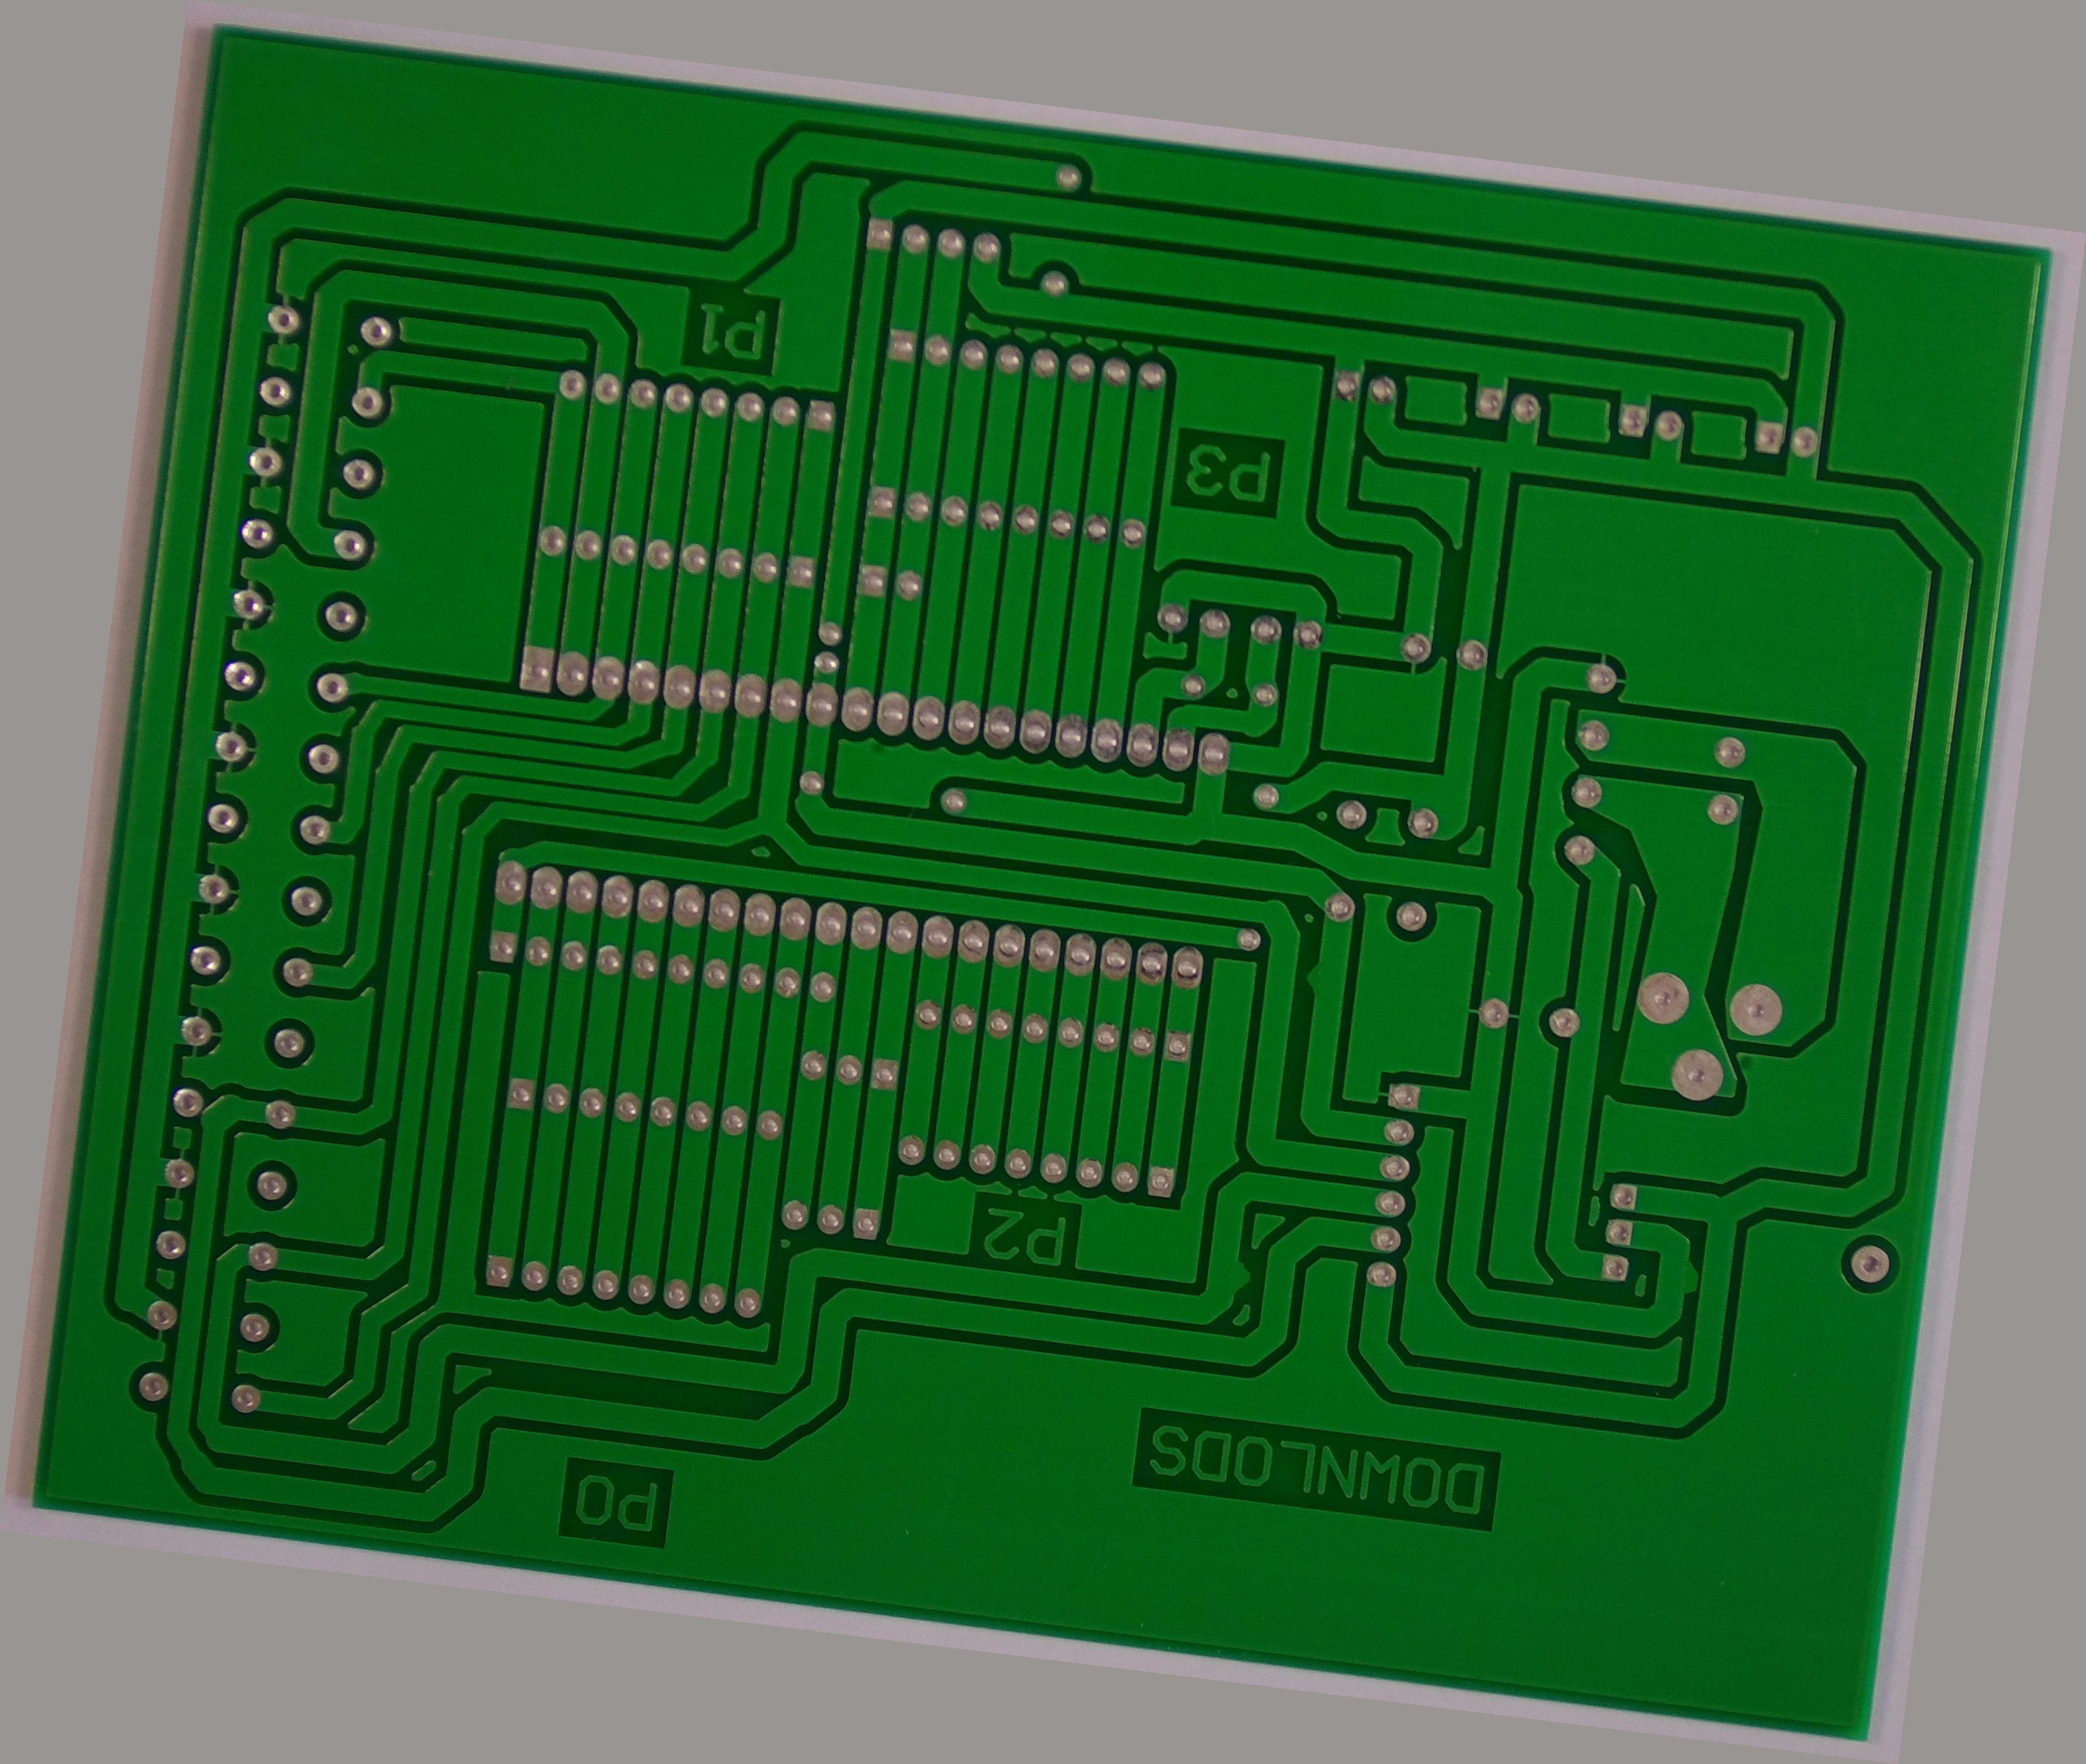spur: (1297, 948, 1342, 1004), (1666, 1249, 1708, 1309), (1218, 1251, 1256, 1305)
